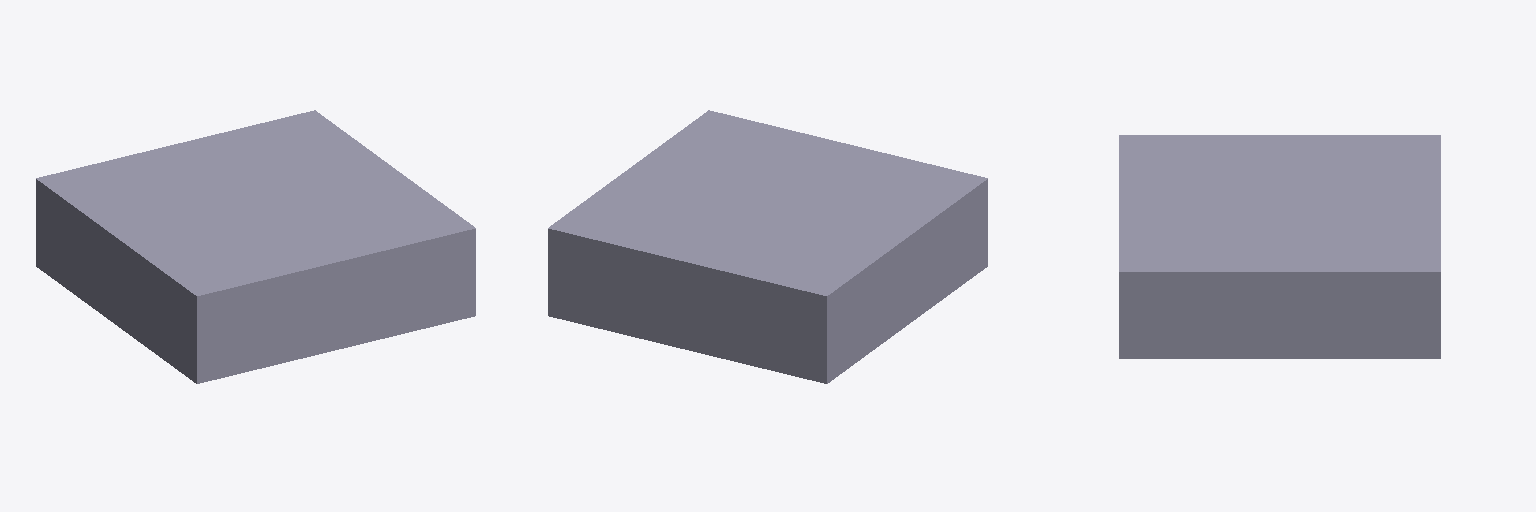
File: ceilingFan.obj
The picture shows the model from 3 angles: view 1: azimuth 30°, elevation 25°; view 2: azimuth 150°, elevation 25°; view 3: azimuth 270°, elevation 25°; orthographic projection.
Size of the model in its own units: 1 by 0.36 by 1.